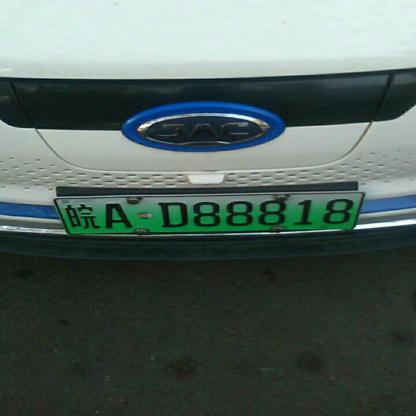lp: (55, 193, 70, 233)
